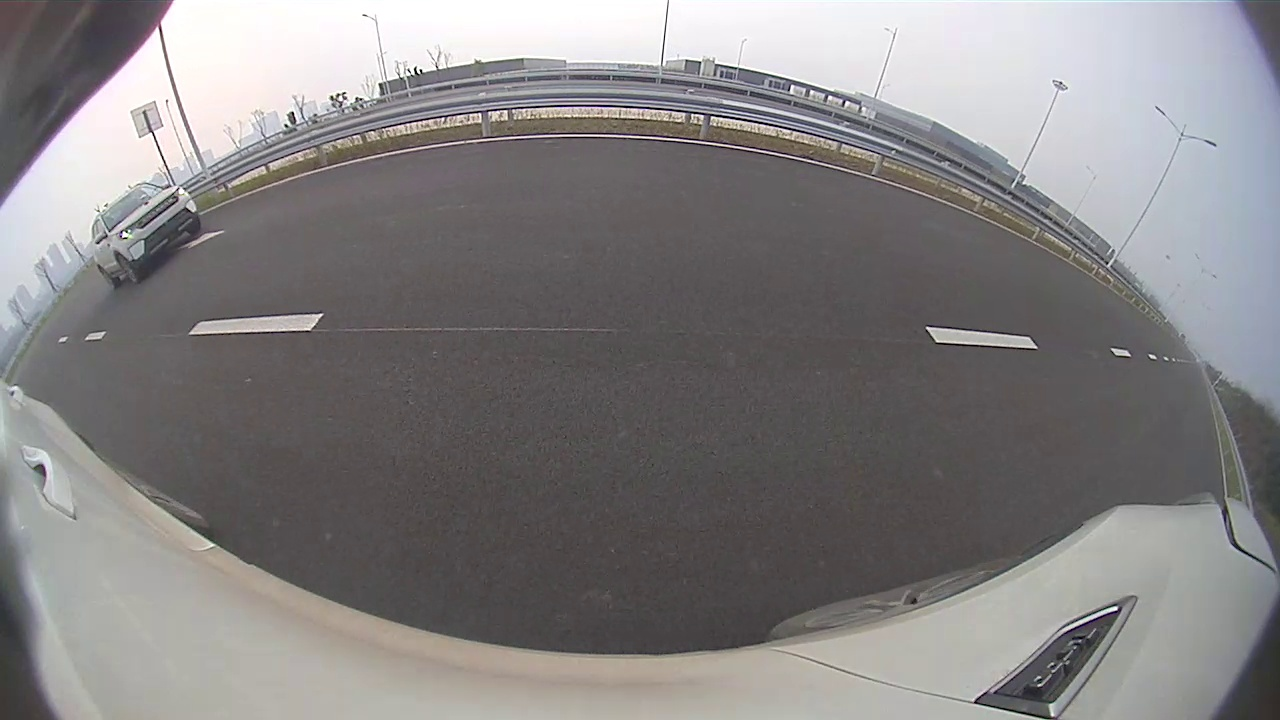car: (91, 182, 200, 290)
front: (114, 253, 141, 289)
